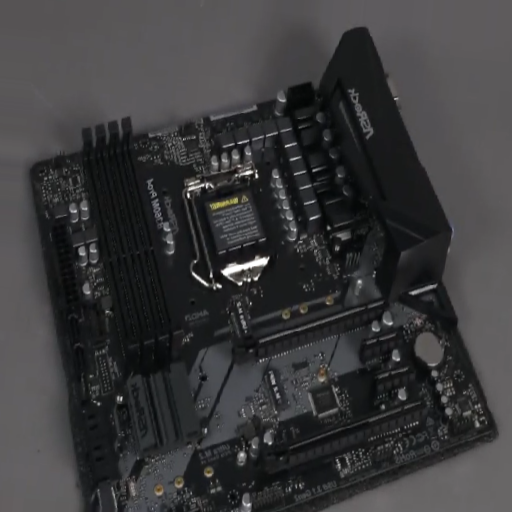CPU: (184, 161, 272, 288)
GPU: (261, 398, 427, 471), (229, 298, 384, 362)
MOTHERBOARD: (28, 79, 497, 508)
RAM: (80, 117, 182, 374)
SSD: (226, 295, 255, 338), (262, 369, 289, 409)
